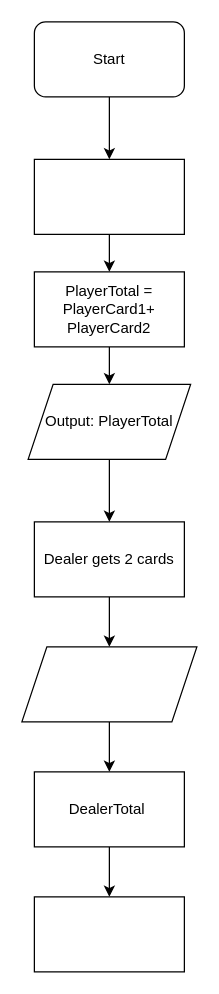
The diagram is 219 pixels wide and 994 high, and some of its shapes have lost their labels. The centre of each missing label's shape, as x and y in pixels:
"End" goes at point (108, 934).
"Output: DealerCard 1" goes at point (109, 684).
"Player gets 2 cards" goes at point (108, 196).
